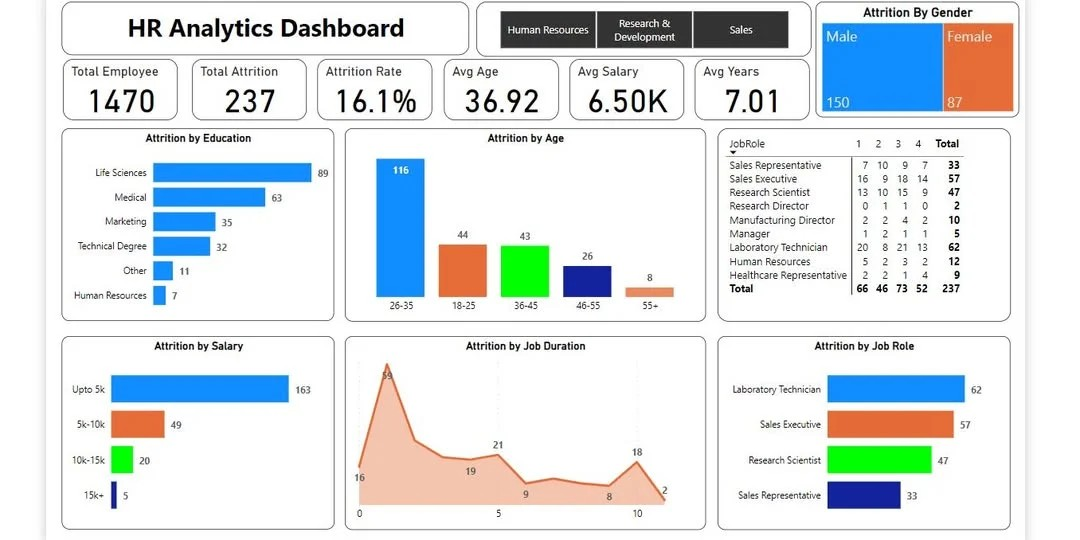

The page's visual inventory and layout, read from the dashboard file:
{"tool":"powerbi","page":{"name":"HR Analytics Dashboard","canvas":[1280,720],"ordinal":0},"visuals":[{"type":"card","title":"Total Employee","fields":{"Values":["CountNonNull(HR_Analytics.EmpID)"]},"box":[21.1,84.7,150,80],"z":0},{"type":"card","title":"Total Attrition","fields":{"Values":["Sum(HR_Analytics.AttritionCount)"]},"box":[191.1,84.7,150,80],"z":1000},{"type":"card","title":"Attrition Rate","fields":{"Values":["HR_Analytics.AttritionRate"]},"box":[355.3,84.7,150,80],"z":2000},{"type":"card","title":"Avg Age","fields":{"Values":["Avg(HR_Analytics.Age)"]},"box":[519.6,84.7,150,80],"z":3000},{"type":"card","title":"Avg Salary","fields":{"Values":["Avg(HR_Analytics.MonthlyIncome)"]},"box":[683.8,84.7,150,80],"z":4000},{"type":"card","title":"Avg Years","fields":{"Values":["Avg(HR_Analytics.YearsAtCompany)"]},"box":[848,84.7,150,80],"z":5000},{"type":"textbox","box":[20.8,9.4,532.4,69.9],"z":6000},{"type":"slicer","fields":{"Values":["HR_Analytics.Department"]},"box":[562.6,9.4,438,71.7],"z":7000},{"type":"treemap","title":"Attrition By Gender","fields":{"Group":["HR_Analytics.Gender"],"Values":["Sum(HR_Analytics.AttritionCount)"]},"box":[1006.3,9.4,266.2,151],"z":8000},{"type":"clusteredBarChart","title":"Attrition by Education","fields":{"Category":["HR_Analytics.EducationField"],"Y":["Sum(HR_Analytics.AttritionCount)"]},"box":[20.8,175.6,356,252],"z":9000},{"type":"columnChart","title":"Attrition by Age","fields":{"Category":["HR_Analytics.AgeGroup"],"Y":["Sum(HR_Analytics.AttritionCount)"]},"box":[390.8,175.6,472,253],"z":10000},{"type":"pivotTable","fields":{"Rows":["HR_Analytics.JobRole"],"Columns":["HR_Analytics.JobSatisfaction"],"Values":["Sum(HR_Analytics.AttritionCount)"]},"box":[877.9,175.6,383.2,253],"z":11000},{"type":"barChart","title":"Attrition by Salary","fields":{"Category":["HR_Analytics.SalarySlab"],"Y":["Sum(HR_Analytics.AttritionCount)"]},"box":[20.8,447.4,356.8,253],"z":12000},{"type":"barChart","title":"Attrition by Job Role","fields":{"Y":["Sum(HR_Analytics.AttritionCount)"],"Category":["HR_Analytics.JobRole"]},"box":[877.7,446.7,382.6,253],"z":13000},{"type":"areaChart","title":"Attrition by Job Duration","fields":{"Category":["HR_Analytics.YearsAtCompany"],"Y":["Sum(HR_Analytics.AttritionCount)"]},"box":[390.5,446.7,471.7,253],"z":14000}]}

Visuals, with their boxes in screenshot pixels (x1, y1, x2, y2):
"Total Employee" card: [x1=58, y1=54, x2=173, y2=115]
"Total Attrition" card: [x1=189, y1=54, x2=304, y2=115]
"Attrition Rate" card: [x1=315, y1=54, x2=430, y2=115]
"Avg Age" card: [x1=441, y1=54, x2=556, y2=115]
"Avg Salary" card: [x1=567, y1=54, x2=682, y2=115]
"Avg Years" card: [x1=692, y1=54, x2=807, y2=115]
textbox: [x1=58, y1=0, x2=466, y2=50]
slicer - HR_Analytics.Department: [x1=474, y1=0, x2=809, y2=51]
"Attrition By Gender" treemap: [x1=814, y1=0, x2=1018, y2=112]
"Attrition by Education" clusteredBarChart: [x1=58, y1=123, x2=331, y2=317]
"Attrition by Age" columnChart: [x1=342, y1=123, x2=704, y2=317]
pivotTable - HR_Analytics.JobRole x HR_Analytics.JobSatisfaction: [x1=715, y1=123, x2=1009, y2=317]
"Attrition by Salary" barChart: [x1=58, y1=332, x2=332, y2=526]
"Attrition by Job Role" barChart: [x1=715, y1=331, x2=1009, y2=525]
"Attrition by Job Duration" areaChart: [x1=342, y1=331, x2=703, y2=525]
